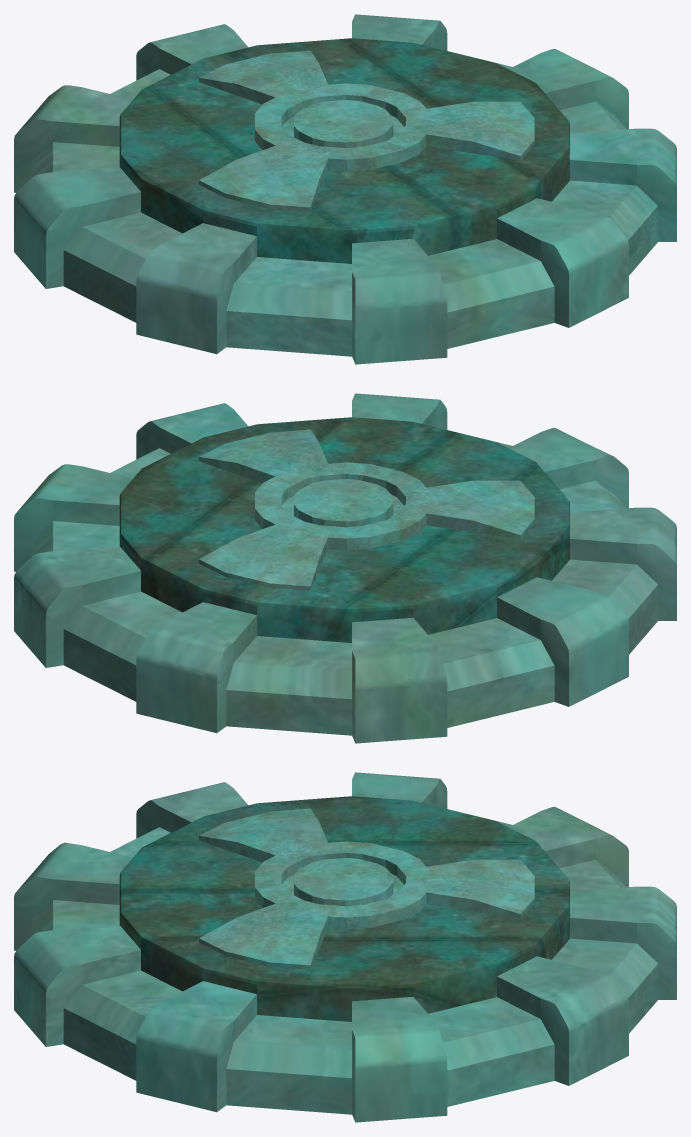
3 renders of one model, top to bottom at view 1: azimuth 30°, elevation 25°; view 2: azimuth 150°, elevation 25°; view 3: azimuth 270°, elevation 25°, orthographic.
Visible parts, largest first — view 1: Cylinder001, オブジェクト001, オブジェクト002; view 2: Cylinder001, オブジェクト001, オブジェクト002; view 3: Cylinder001, オブジェクト001, オブジェクト002.
Boxes of the visible parts, x1,y1,x2,y2 form: Cylinder001: (14, 14, 676, 364); オブジェクト001: (119, 38, 569, 263); オブジェクト002: (199, 50, 534, 211); Cylinder001: (14, 393, 676, 743); オブジェクト001: (119, 417, 569, 642); オブジェクト002: (199, 429, 534, 590); Cylinder001: (14, 772, 676, 1122); オブジェクト001: (119, 796, 569, 1021); オブジェクト002: (199, 808, 534, 969).
Bounding box in the file's own units: 54.35 × 9.62 × 53.52.
